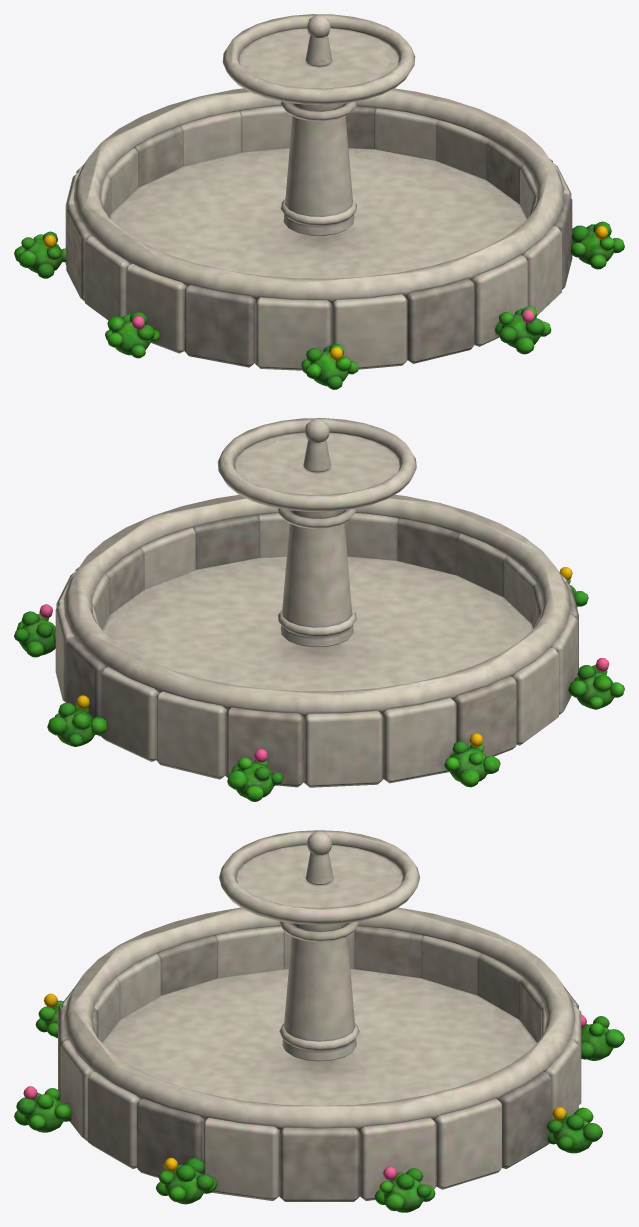
File: fountain.glb
3 views of the same model, one above another, from view 1: azimuth 30°, elevation 25°; view 2: azimuth 150°, elevation 25°; view 3: azimuth 270°, elevation 25° (orthographic). The views are drawn at different scales.
Visible parts, largest first — view 1: fountain; view 2: fountain; view 3: fountain.
Part boxes in pixels (x1,y1,x2,y2): fountain: (14,14,624,389); fountain: (14,418,624,801); fountain: (14,830,624,1212).
Bounding box in the file's own units: 2.13 × 1.01 × 2.13.
1 material, 1 textured.
